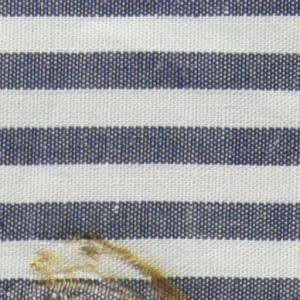Oil Stain: (27, 224, 191, 300)
